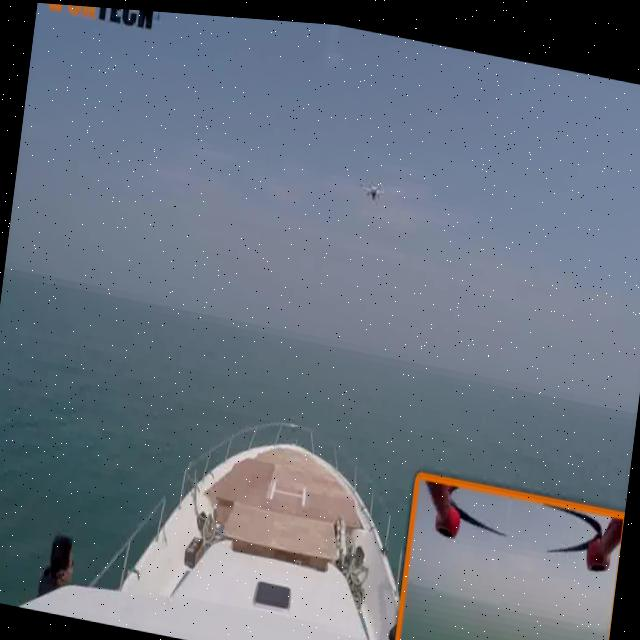drone: (352, 159, 390, 209)
